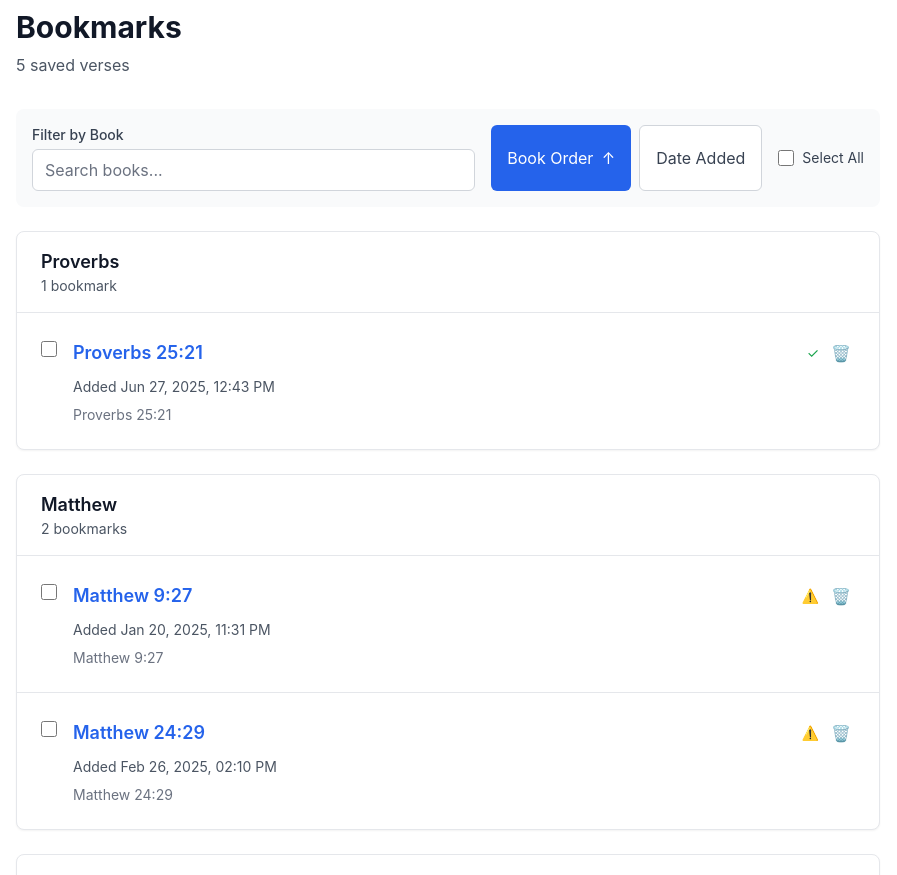
Test: BookmarksView › Filtering Functionality › shows clear filter button when filter is active
The image size is (897, 875).
Type "Genesis" into the field with placeholder "Search books..." at (254, 170), box [32,149,475,191]
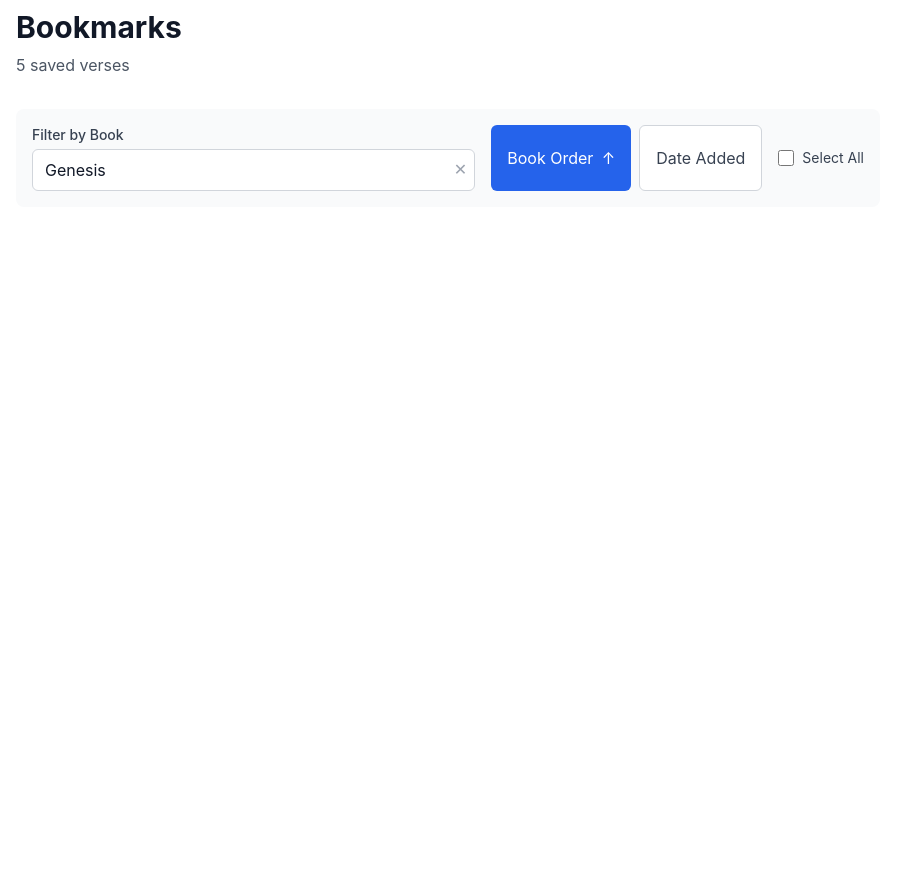
Result: the button "✕" is shown at [454,157,467,181]
